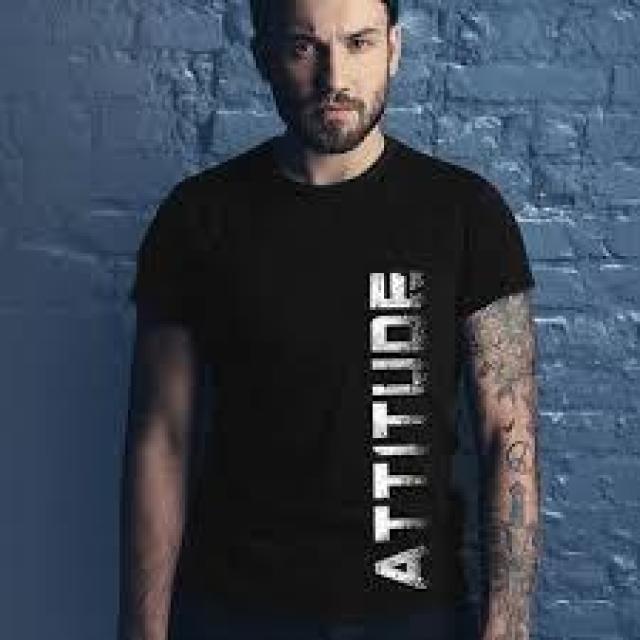Tshirt: (122, 131, 535, 617)
